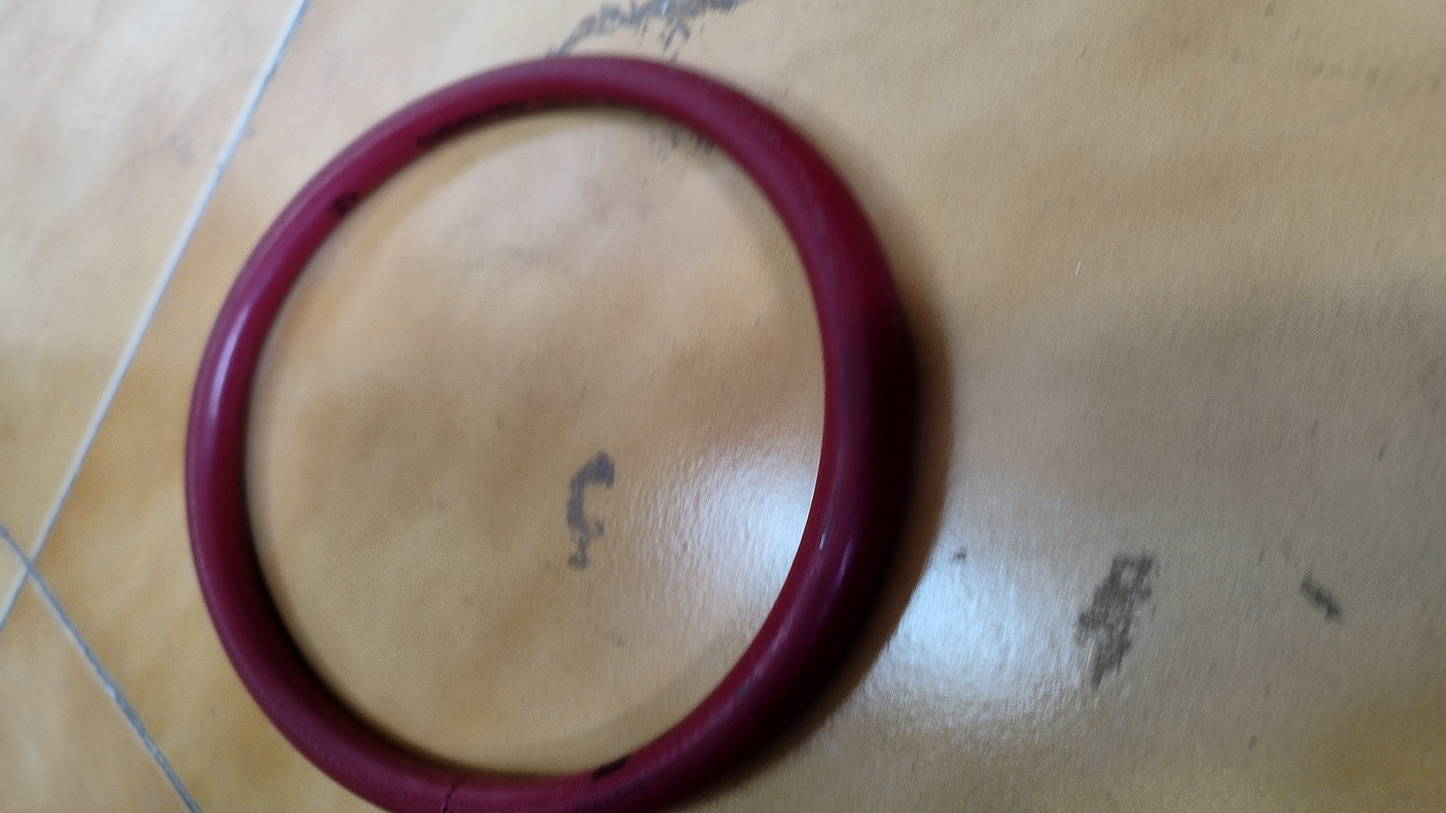Red ring: (189, 57, 888, 813)
